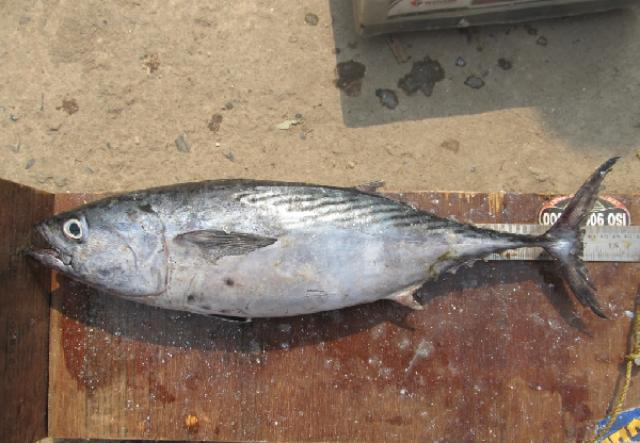Mulut: (17, 208, 71, 282)
Sirip Anal: (374, 272, 438, 326)
Sirip Dada: (168, 217, 286, 275)
Sirip Ekor: (536, 142, 628, 336)
Sirip Perut: (176, 295, 260, 335)
Sirip Punggung: (336, 168, 396, 208)
